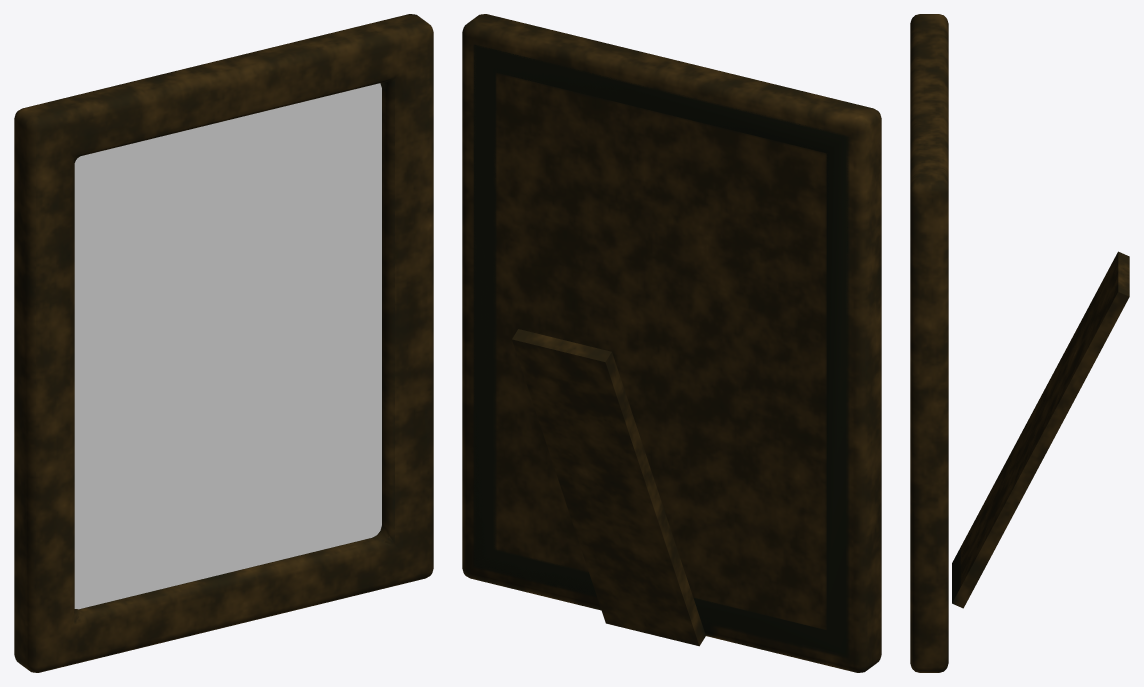
Rendered from vera_frame.glb.
The picture shows the model from 3 angles, left to right: view 1: azimuth 30°, elevation 25°; view 2: azimuth 150°, elevation 25°; view 3: azimuth 270°, elevation 25°; orthographic projection. The views are drawn at different scales.
Parts seen in each view (by area): view 1: Photo, Frame; view 2: Frame; view 3: Frame.
Boxes of the visible parts, left/top/right/bottom form: Photo: left=74, top=83, right=381, bottom=609; Frame: left=14, top=14, right=433, bottom=672; Frame: left=462, top=14, right=881, bottom=672; Frame: left=910, top=14, right=1129, bottom=672.
Size of the model in its own units: 0.13 by 0.17 by 0.0689.
Materials: 2 (1 with a texture image).
